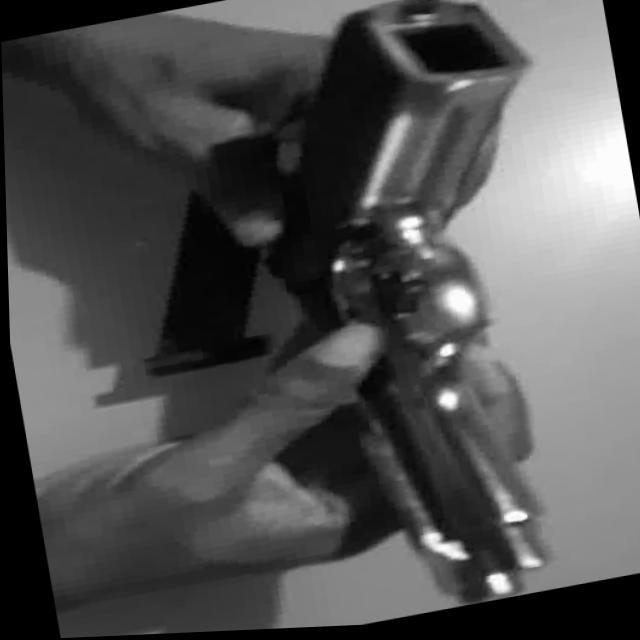weapon: (220, 0, 617, 632)
